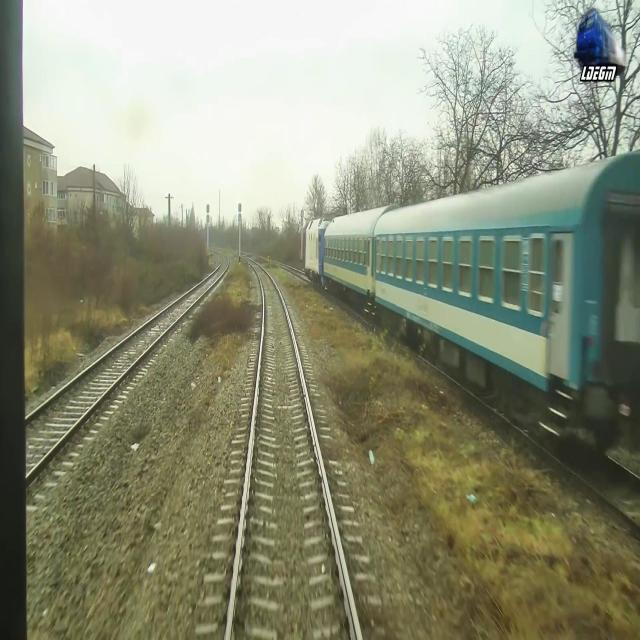rail-track: (0, 254, 228, 500), (229, 258, 358, 639), (281, 264, 304, 276)
